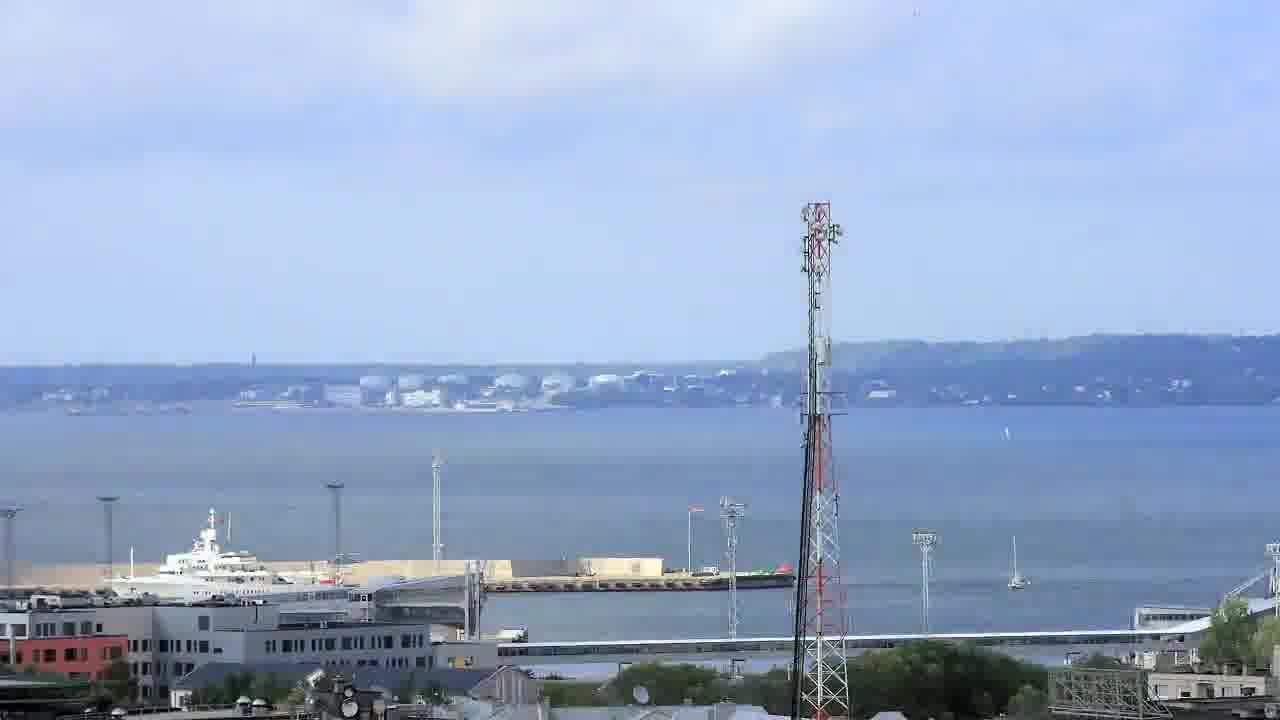type-0: (998, 531, 1048, 600)
type-3: (72, 492, 370, 608)
